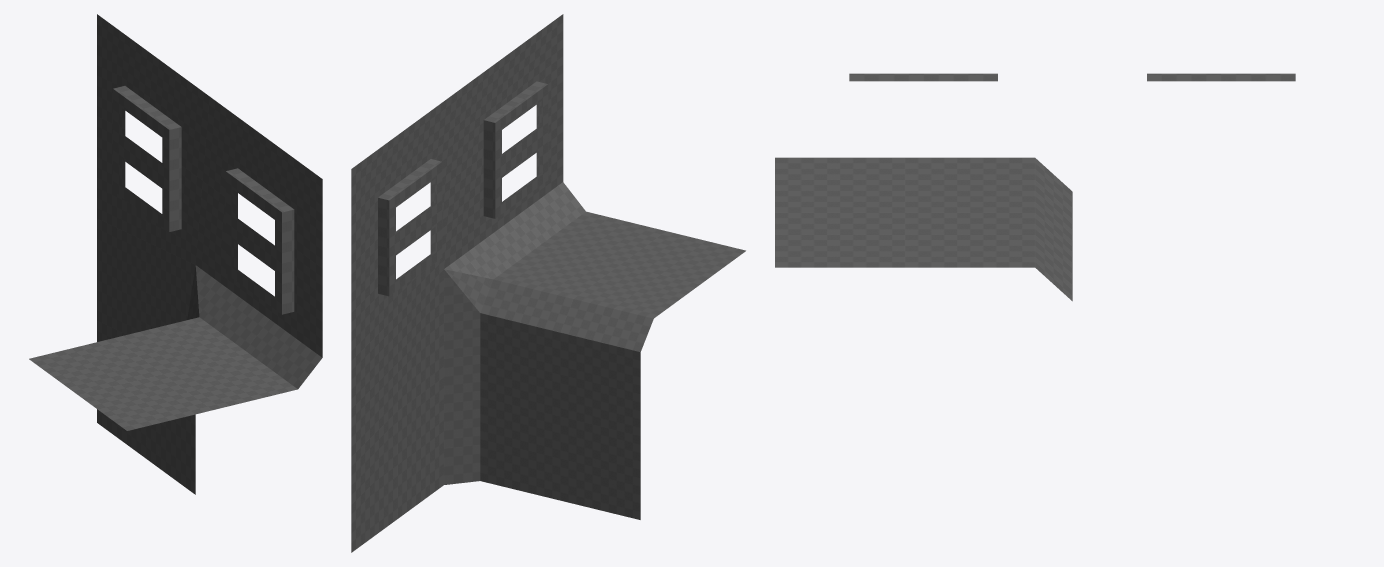
3 renders of one model, left to right at view 1: azimuth 30°, elevation 25°; view 2: azimuth 150°, elevation 25°; view 3: azimuth 270°, elevation 25°, orthographic. The views are drawn at different scales.
Visible parts, largest first — view 1: CubeUpBackLeft2V2; view 2: CubeUpBackLeft2V2; view 3: CubeUpBackLeft2V2.
Boxes of the visible parts, x1,y1,x2,y2 form: CubeUpBackLeft2V2: [29, 14, 322, 494]; CubeUpBackLeft2V2: [351, 14, 745, 552]; CubeUpBackLeft2V2: [775, 73, 1295, 301].
Bounding box in the file's own units: 2 × 4 × 4.
1 material, 1 textured.
